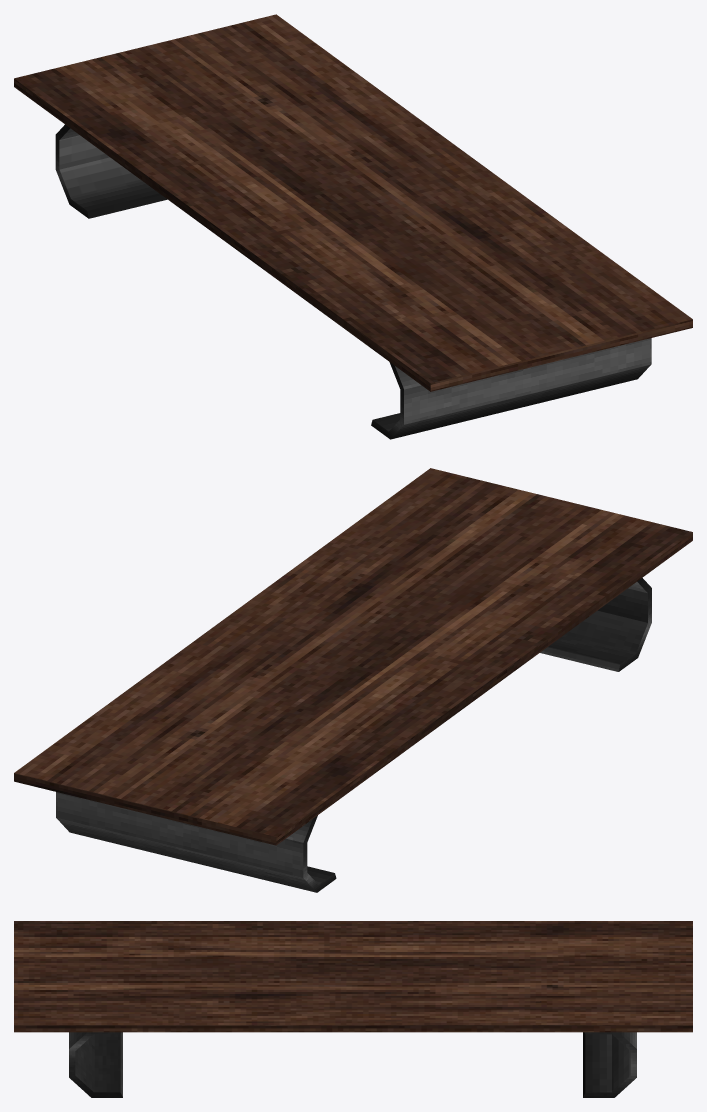
The model's file is coffeeTableLong.fbx.
3 views of the same model, one above another, from view 1: azimuth 30°, elevation 25°; view 2: azimuth 150°, elevation 25°; view 3: azimuth 270°, elevation 25° (orthographic). The views are drawn at different scales.
Visible parts, largest first — view 1: coffeeTableLong, Cylinder.002, Cylinder.003; view 2: coffeeTableLong, Cylinder.003, Cylinder.002; view 3: coffeeTableLong, Cylinder.003, Cylinder.002.
Part boxes in pixels (x1,y1,x2,y2): coffeeTableLong: [14, 14, 692, 391]; Cylinder.002: [371, 338, 651, 439]; Cylinder.003: [55, 124, 167, 218]; coffeeTableLong: [14, 468, 692, 845]; Cylinder.003: [56, 792, 336, 892]; Cylinder.002: [540, 578, 651, 671]; coffeeTableLong: [14, 921, 692, 1032]; Cylinder.003: [583, 1032, 636, 1097]; Cylinder.002: [69, 1032, 122, 1097].
Bounding box in the file's own units: 80 × 27.06 × 220.
Materials: 1 (1 with a texture image).
